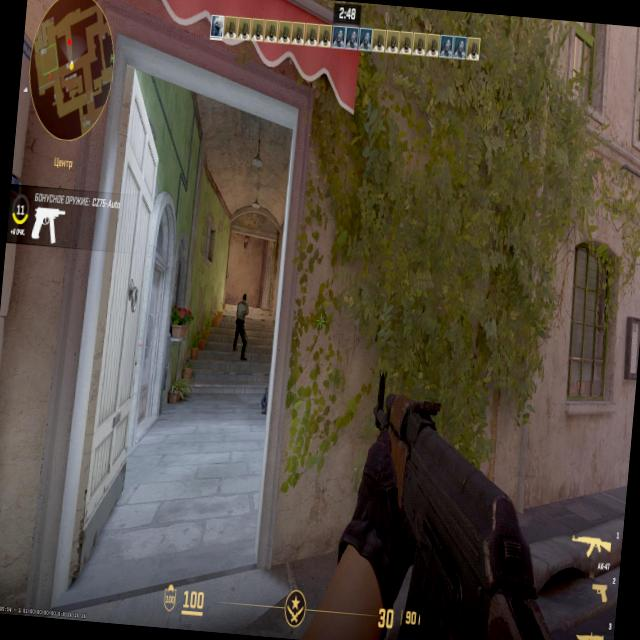T: (233, 292, 251, 354)
T_heat: (241, 292, 247, 305)
